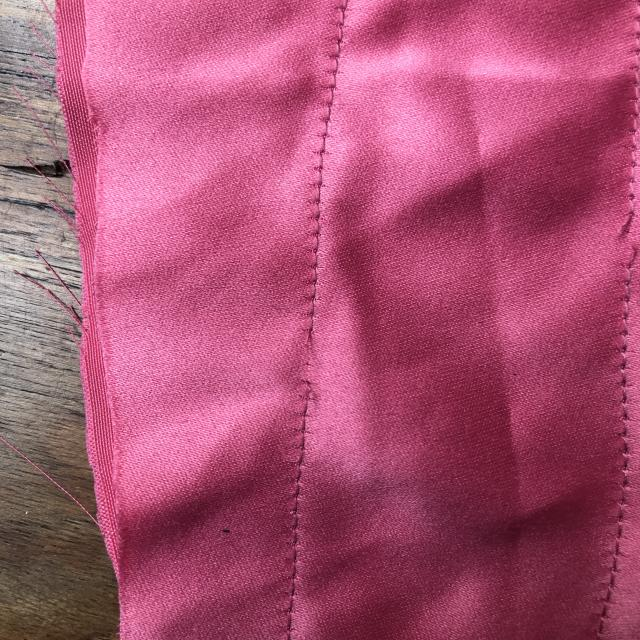broken: (285, 311, 336, 404)
